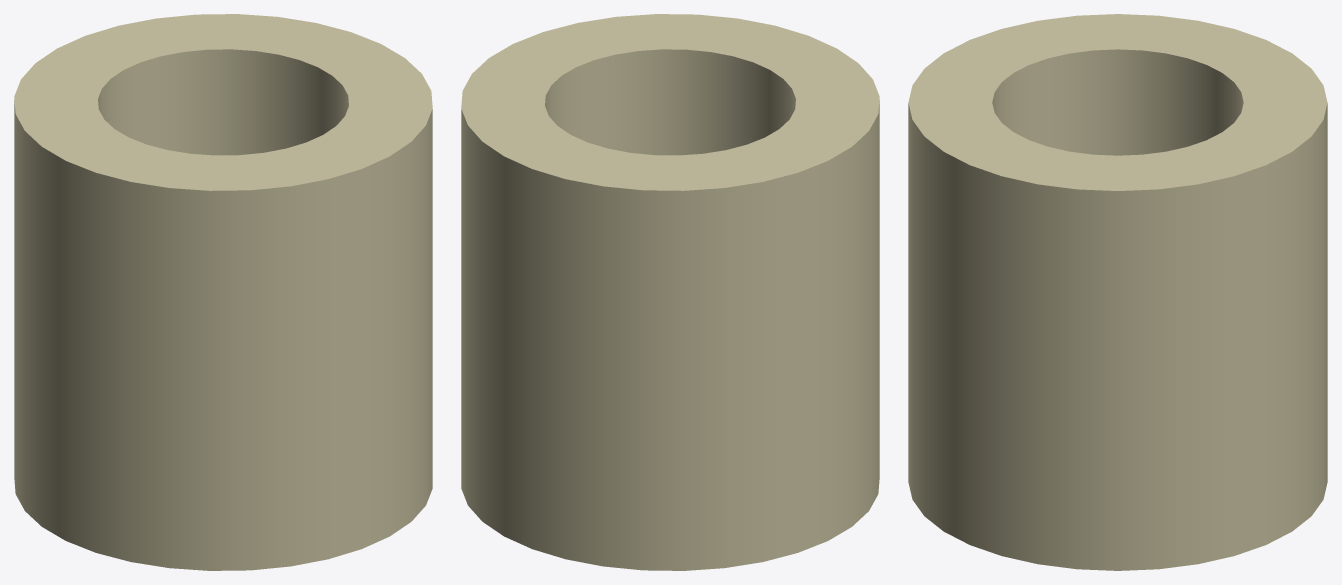
3 views of the same model, side by side, from view 1: azimuth 30°, elevation 25°; view 2: azimuth 150°, elevation 25°; view 3: azimuth 270°, elevation 25° (orthographic).
Visible parts, largest first — view 1: Shape_Tube; view 2: Shape_Tube; view 3: Shape_Tube.
Part boxes in pixels (<box>): Shape_Tube: <box>14,14,432,570</box>; Shape_Tube: <box>461,14,879,570</box>; Shape_Tube: <box>908,14,1327,570</box>.
Size of the model in its own units: 100 by 100 by 100.
